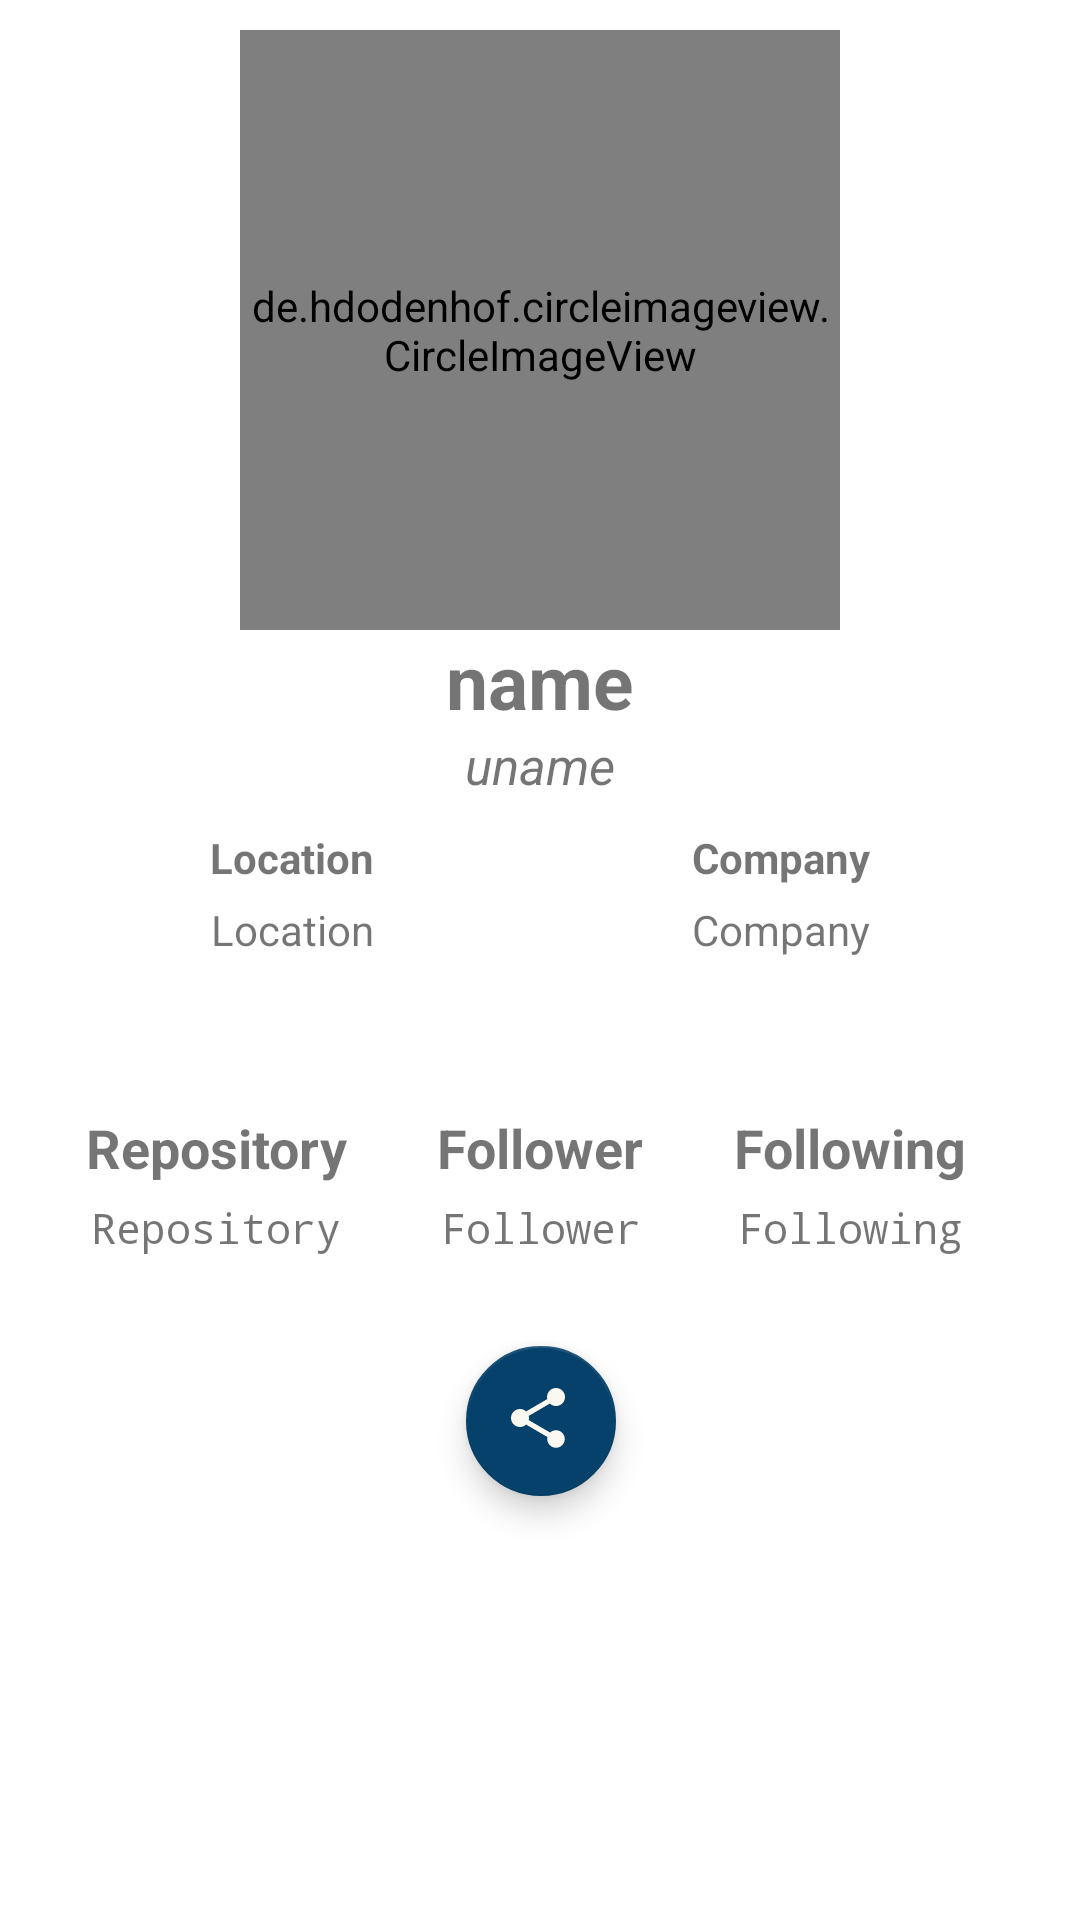

Named icons in this screenshot (1080 × 1920) and their bounding boxes, (x1, y1, x2, y2):
Share Button: (466, 1346, 616, 1496)
